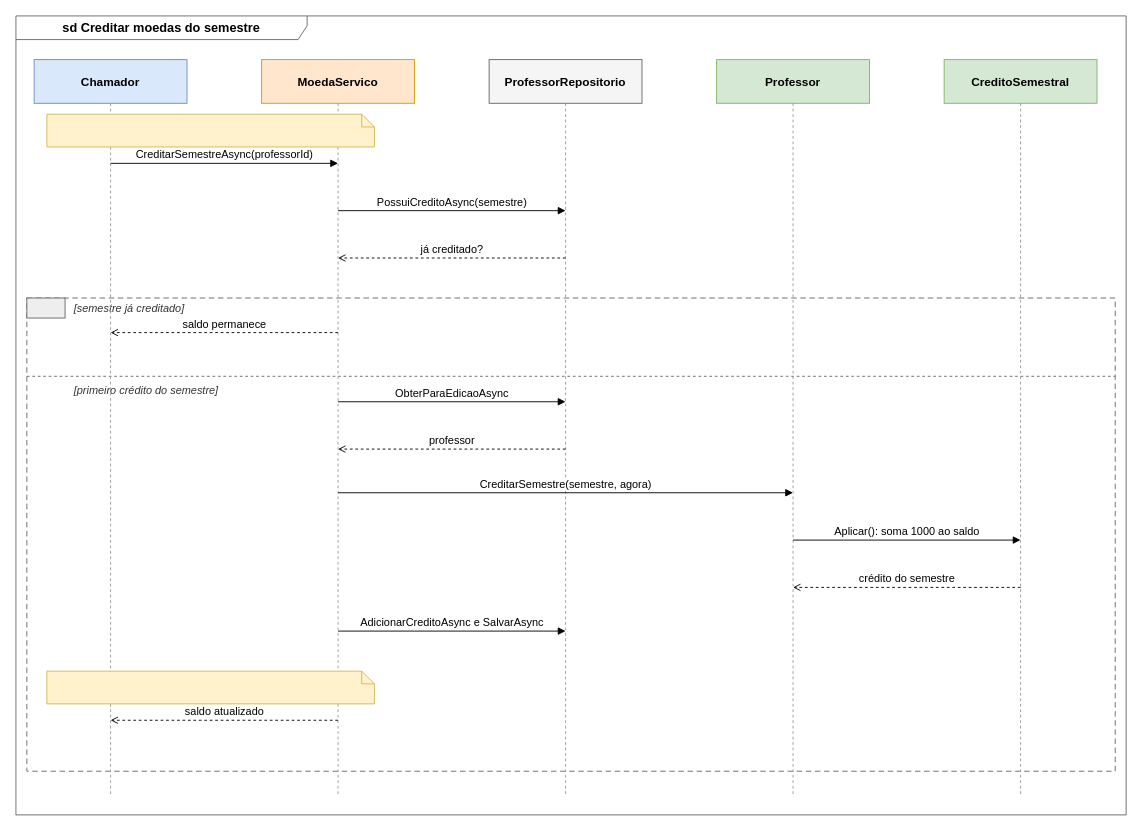
Image size: 1142x831. Some labels were removed from this diagram. Each missing label, with the centre of its shape:
alt: the point at 45,307
Disparado ao abrir a área do professor e antes de cada envio.: the point at 210,130
Índice único (professor, semestre) impede crédito duplicado.: the point at 210,687
